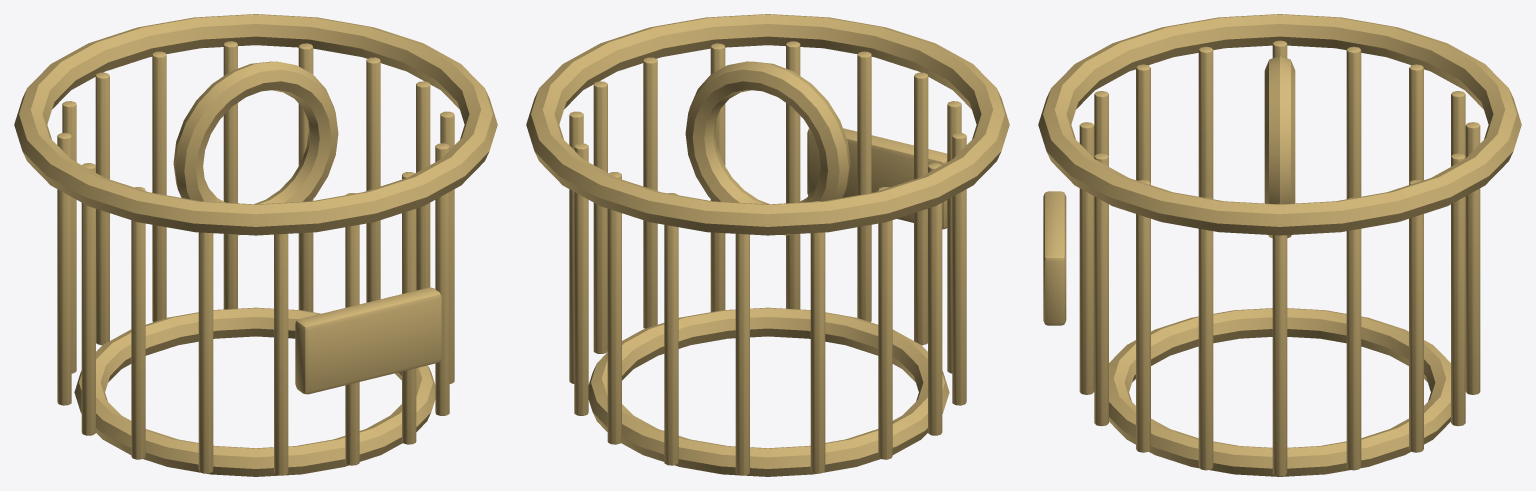
The model's file is range_basket_country_club.glb.
3 views of the same model, side by side, from view 1: azimuth 30°, elevation 25°; view 2: azimuth 150°, elevation 25°; view 3: azimuth 270°, elevation 25° (orthographic).
Parts seen in each view (by area): view 1: RangeBasket_TopRing, RangeBasket_BottomRing, RangeBasket_CountPlaque, RangeBasket_Handle, RangeBasket_Wire_11, RangeBasket_Wire_12, RangeBasket_Wire_10, RangeBasket_Wire_5, RangeBasket_Wire_9, RangeBasket_Wire_8, RangeBasket_Wire_6, RangeBasket_Wire_2 (+8 smaller); view 2: RangeBasket_TopRing, RangeBasket_BottomRing, RangeBasket_Handle, RangeBasket_CountPlaque, RangeBasket_Wire_7, RangeBasket_Wire_6, RangeBasket_Wire_5, RangeBasket_Wire_8, RangeBasket_Wire_4, RangeBasket_Wire_13, RangeBasket_Wire_16, RangeBasket_Wire_1 (+8 smaller); view 3: RangeBasket_TopRing, RangeBasket_BottomRing, RangeBasket_Handle, RangeBasket_Wire_1, RangeBasket_Wire_16, RangeBasket_Wire_2, RangeBasket_Wire_13, RangeBasket_Wire_5, RangeBasket_Wire_15, RangeBasket_Wire_3, RangeBasket_Wire_14, RangeBasket_Wire_4 (+7 smaller).
Part boxes in pixels (left/top/right/bottom): RangeBasket_TopRing: left=14, top=14, right=497, bottom=235; RangeBasket_BottomRing: left=74, top=307, right=435, bottom=476; RangeBasket_CountPlaque: left=295, top=287, right=441, bottom=394; RangeBasket_Handle: left=173, top=61, right=338, bottom=235; RangeBasket_Wire_11: left=198, top=201, right=213, bottom=473; RangeBasket_Wire_12: left=274, top=233, right=288, bottom=475; RangeBasket_Wire_10: left=131, top=187, right=145, bottom=459; RangeBasket_Wire_5: left=152, top=51, right=166, bottom=322; RangeBasket_Wire_9: left=81, top=163, right=95, bottom=435; RangeBasket_Wire_8: left=57, top=133, right=71, bottom=405; RangeBasket_Wire_6: left=95, top=72, right=109, bottom=345; RangeBasket_Wire_2: left=366, top=57, right=380, bottom=302; RangeBasket_TopRing: left=526, top=14, right=1009, bottom=235; RangeBasket_BottomRing: left=588, top=307, right=949, bottom=476; RangeBasket_Handle: left=685, top=61, right=850, bottom=235; RangeBasket_CountPlaque: left=807, top=128, right=947, bottom=229; RangeBasket_Wire_7: left=810, top=201, right=825, bottom=473; RangeBasket_Wire_6: left=735, top=233, right=749, bottom=475; RangeBasket_Wire_5: left=664, top=193, right=678, bottom=465; RangeBasket_Wire_8: left=878, top=187, right=892, bottom=459; RangeBasket_Wire_4: left=607, top=172, right=621, bottom=444; RangeBasket_Wire_13: left=857, top=51, right=871, bottom=322; RangeBasket_Wire_16: left=643, top=57, right=657, bottom=328; RangeBasket_Wire_1: left=593, top=81, right=607, bottom=353; RangeBasket_TopRing: left=1038, top=14, right=1521, bottom=235; RangeBasket_BottomRing: left=1109, top=308, right=1450, bottom=476; RangeBasket_Handle: left=1264, top=55, right=1295, bottom=238; RangeBasket_Wire_1: left=1272, top=203, right=1287, bottom=476; RangeBasket_Wire_16: left=1198, top=197, right=1213, bottom=470; RangeBasket_Wire_2: left=1346, top=197, right=1361, bottom=470; RangeBasket_Wire_13: left=1079, top=122, right=1094, bottom=394; RangeBasket_Wire_5: left=1465, top=122, right=1480, bottom=394; RangeBasket_Wire_15: left=1136, top=180, right=1150, bottom=452; RangeBasket_Wire_3: left=1409, top=180, right=1423, bottom=452; RangeBasket_Wire_14: left=1094, top=153, right=1108, bottom=426; RangeBasket_Wire_4: left=1451, top=153, right=1465, bottom=426.
Size of what is drawn, in the model's own units: 0.3788 by 0.296 by 0.3788.
